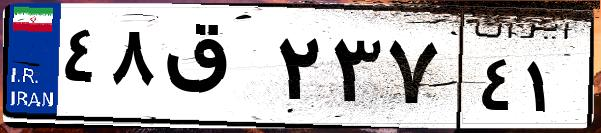1: (525, 38, 570, 115)
2: (270, 28, 330, 110)
3: (330, 28, 385, 110)
4: (57, 26, 110, 100), (475, 38, 525, 113)
7: (385, 28, 445, 110)
8: (110, 28, 158, 98)
ق: (158, 20, 270, 120)
